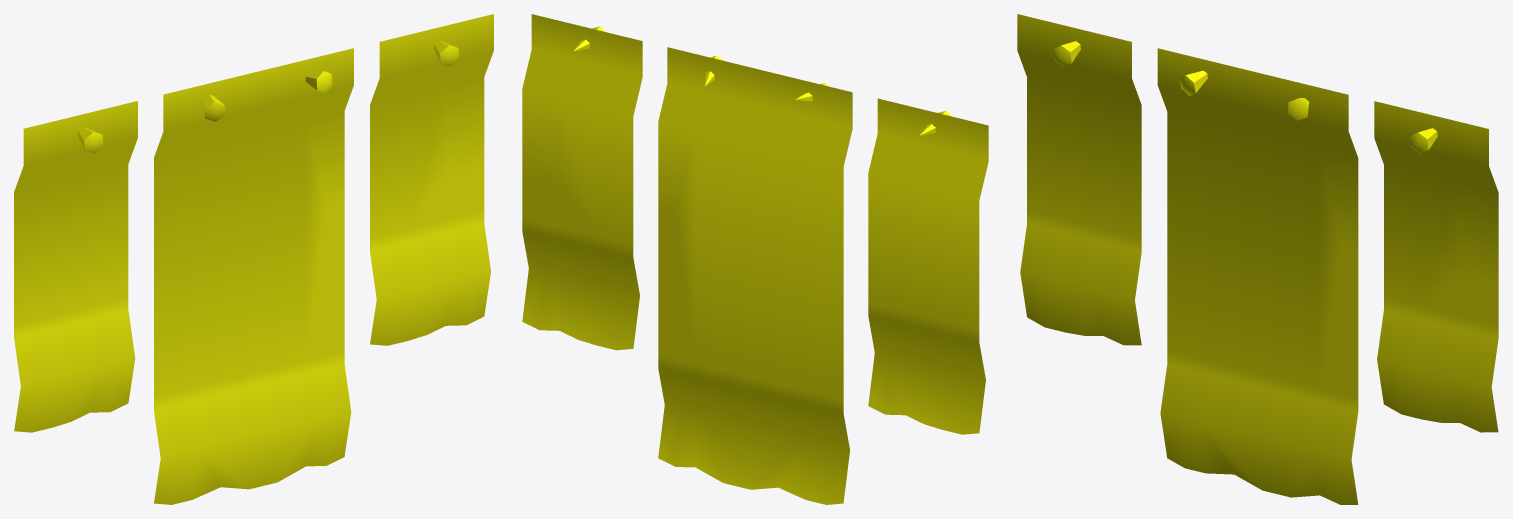
Rendered from kaykit-banner-triple-blue.glb.
The picture shows the model from 3 angles, left to right: view 1: azimuth 30°, elevation 25°; view 2: azimuth 150°, elevation 25°; view 3: azimuth 330°, elevation 25°; orthographic projection. The views are drawn at different scales.
Visible parts, largest first — view 1: banner_triple_blue; view 2: banner_triple_blue; view 3: banner_triple_blue.
Part boxes in pixels (x1,y1,x2,y2): banner_triple_blue: (14,14,493,504); banner_triple_blue: (522,14,988,504); banner_triple_blue: (1017,14,1498,504).
Size of the model in its own units: 3.7 by 3.2 by 0.3622.
